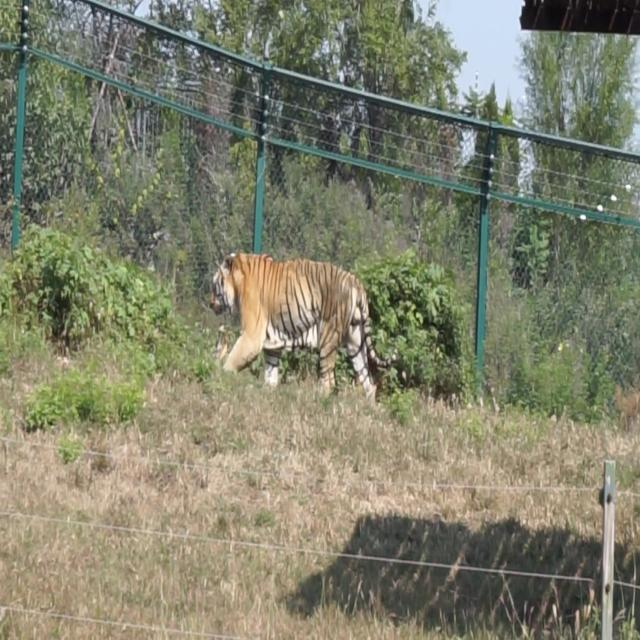Tiger: (198, 240, 388, 414)
